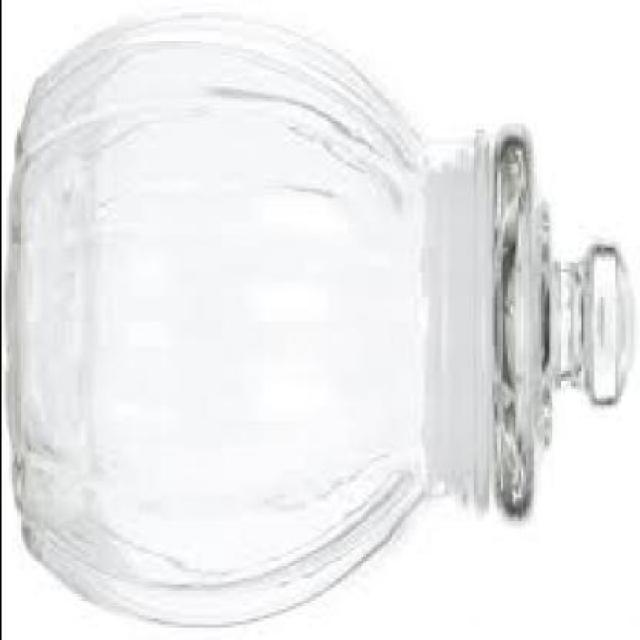GLASS: (8, 12, 635, 625)
